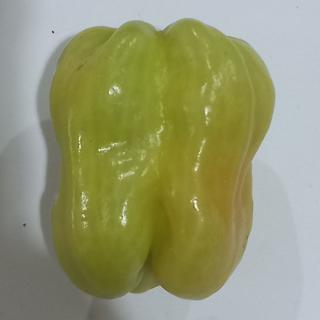Grade-A: (46, 12, 281, 301)
